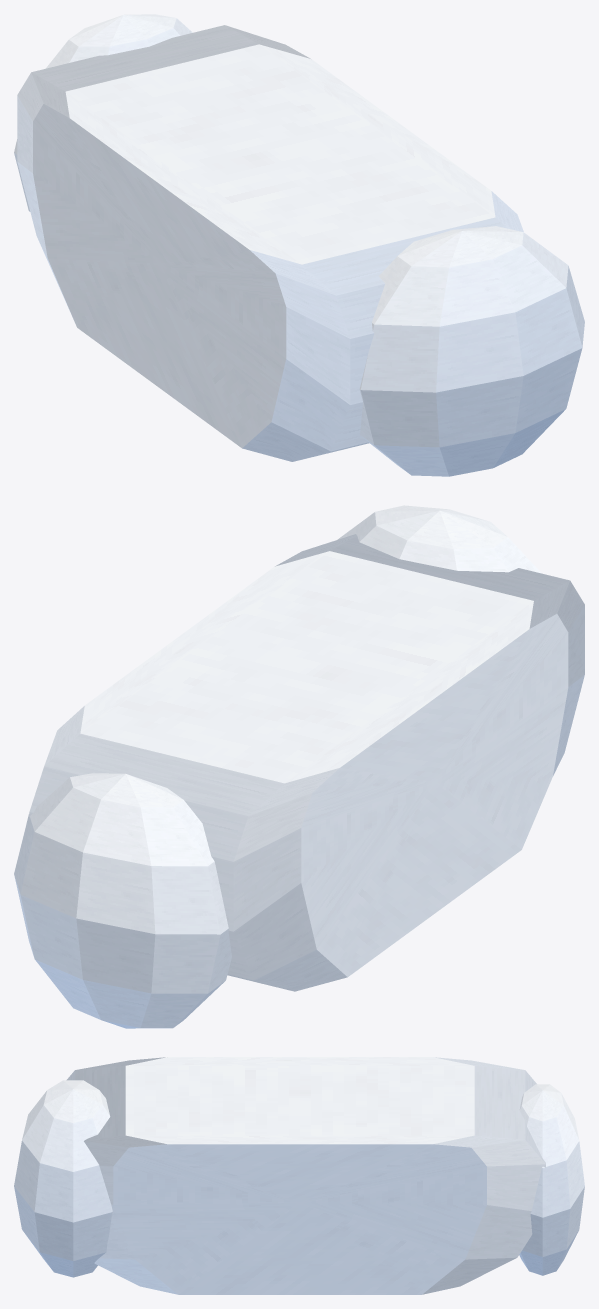
Rendered from Luna0FluttershyNuvens3DFinal.glb.
3 views of the same model, one above another, from view 1: azimuth 30°, elevation 25°; view 2: azimuth 150°, elevation 25°; view 3: azimuth 270°, elevation 25° (orthographic). The views are drawn at different scales.
Visible parts, largest first — view 1: Setor_7; view 2: Setor_7; view 3: Setor_7.
Boxes of the visible parts, x1,y1,x2,y2 form: Setor_7: (14,14,584,476); Setor_7: (14,505,584,1028); Setor_7: (14,1057,584,1294).
Size of the model in its own units: 1.46 by 1.3 by 3.6.
1 material, 1 textured.
